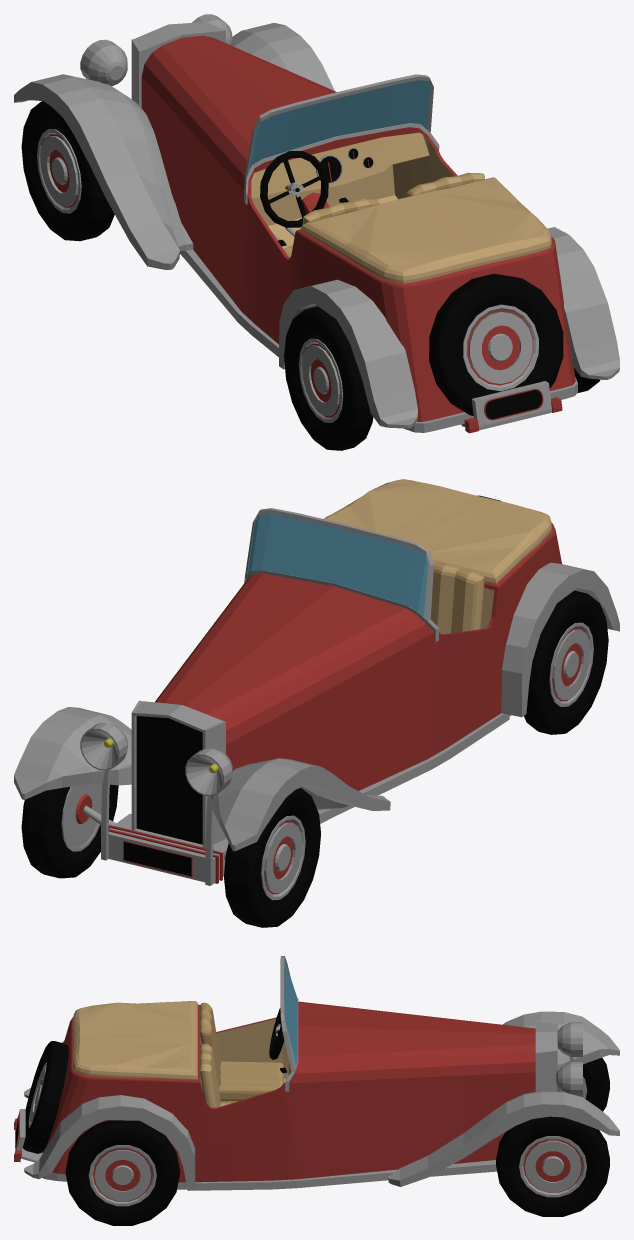
File: TRlightRed.glb
3 views of the same model, one above another, from view 1: azimuth 30°, elevation 25°; view 2: azimuth 150°, elevation 25°; view 3: azimuth 270°, elevation 25° (orthographic). The views are drawn at different scales.
Visible parts, largest first — view 1: HRG Sports car 1948; view 2: HRG Sports car 1948; view 3: HRG Sports car 1948.
Boxes of the visible parts, x1,y1,x2,y2 form: HRG Sports car 1948: (14, 14, 619, 450); HRG Sports car 1948: (14, 479, 619, 927); HRG Sports car 1948: (14, 956, 619, 1225).
Size of the model in its own units: 2.19 by 2.03 by 5.71.
